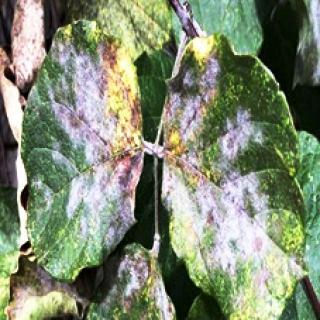grey mildew: (49, 16, 261, 243), (104, 248, 168, 316)
